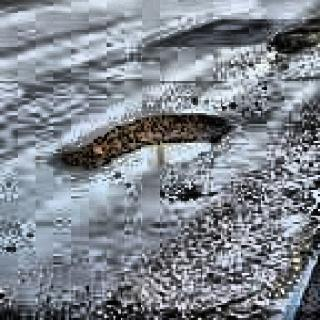pothole: (57, 102, 234, 182)
